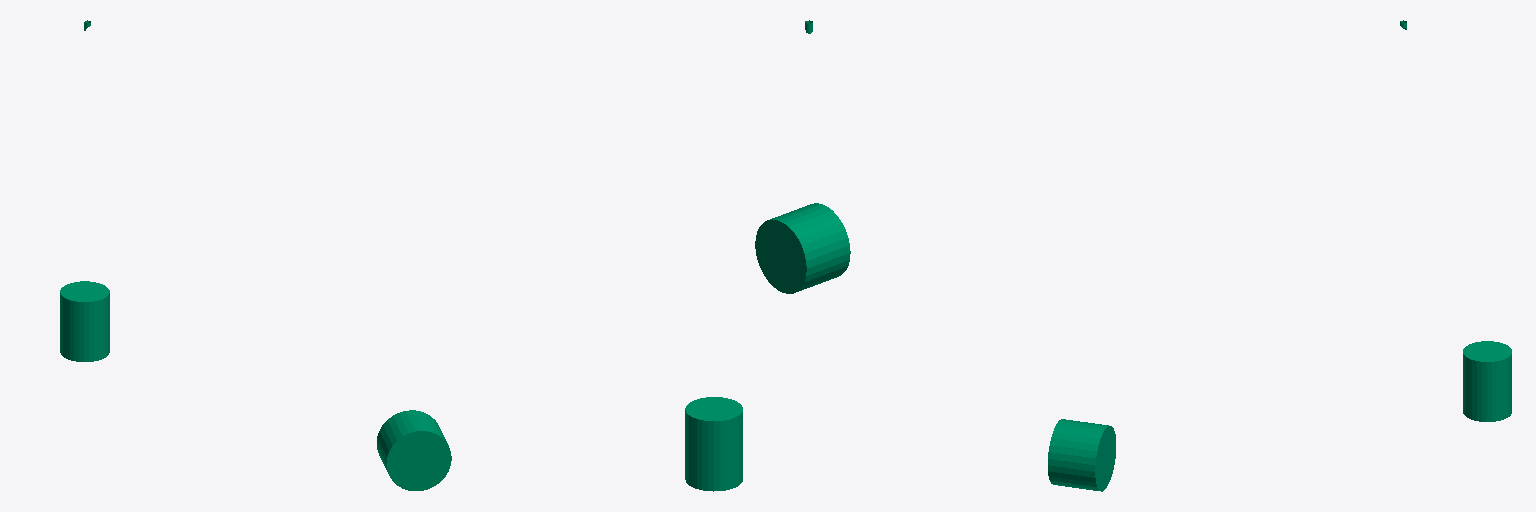
robot.urdf — partnet_5b844d6f4d064a52ce6c3e73b818a2cc:
<?xml version="1.0" ?>
<robot name="partnet_5b844d6f4d064a52ce6c3e73b818a2cc">
	<link name="base"/>
	<link name="link_0">
		<visual name="outside_frame-1">
			<origin xyz="0 0 0"/>
			<geometry>
				<mesh filename="textured_objs/original-1.obj"/>
			</geometry>
		</visual>
		<visual name="outside_frame-1">
			<origin xyz="0 0 0"/>
			<geometry>
				<mesh filename="textured_objs/original-2.obj"/>
			</geometry>
		</visual>
		<collision>
			<origin xyz="0 0 0"/>
			<geometry>
				<mesh filename="textured_objs/original-1.obj"/>
			</geometry>
		</collision>
		<collision>
			<origin xyz="0 0 0"/>
			<geometry>
				<mesh filename="textured_objs/original-2.obj"/>
			</geometry>
		</collision>
	</link>
	<joint name="joint_0" type="fixed">
		<origin rpy="1.570796326794897 0 -1.570796326794897" xyz="0 0 0"/>
		<child link="link_0"/>
		<parent link="base"/>
	</joint>
	<link name="link_1">
		<visual name="glass-34">
			<origin xyz="0.4215270657166128 -0.48329200000000005 -0.008461858680020029"/>
			<geometry>
				<mesh filename="textured_objs/original-12.obj"/>
			</geometry>
		</visual>
		<visual name="fixed_part-31">
			<origin xyz="0.4215270657166128 -0.48329200000000005 -0.008461858680020029"/>
			<geometry>
				<mesh filename="textured_objs/original-10.obj" scale="3 3 3"/>
			</geometry>
		</visual>
		<visual name="fixed_part-30">
			<origin xyz="0.4215270657166128 -0.48329200000000005 -0.008461858680020029"/>
			<geometry>
				<mesh filename="textured_objs/original-11.obj" scale="3 3 3"/>
			</geometry>
		</visual>
		<collision>
			<origin xyz="0.4215270657166128 -0.48329200000000005 -0.008461858680020029"/>
			<geometry>
				<mesh filename="textured_objs/original-12.obj"/>
			</geometry>
		</collision>
		<collision>
			<origin xyz="0.4215270657166128 -0.48329200000000005 -0.008461858680020029"/>
			<geometry>
				<mesh filename="textured_objs/original-10.obj" scale="3 3 3"/>
			</geometry>
		</collision>
		<collision>
			<origin xyz="0.4215270657166128 -0.48329200000000005 -0.008461858680020029"/>
			<geometry>
				<mesh filename="textured_objs/original-11.obj" scale="3 3 3"/>
			</geometry>
		</collision>
	</link>
	<joint name="joint_1" type="revolute">
		<origin xyz="-0.4265270657166128 0.48329200000000005 0.008461858680020029"/>
		<axis xyz="0 -1 0"/>
		<child link="link_1"/>
		<parent link="link_0"/>
		<limit lower="0.0" upper="1.5707963267948966"/>
	</joint>
	<link name="link_2">
		<visual name="glass-33">
			<origin xyz="-0.41540686074842226 -0.4832920000000003 -0.0055998888476049835"/>
			<geometry>
				<mesh filename="textured_objs/original-7.obj"/>
			</geometry>
		</visual>
		<visual name="fixed_part-32">
			<origin xyz="-0.41540686074842226 -0.4832920000000003 -0.0055998888476049835"/>
			<geometry>
				<mesh filename="textured_objs/original-6.obj" scale="3 3 3"/>
			</geometry>
		</visual>
		<visual name="fixed_part-29">
			<origin xyz="-0.41540686074842226 -0.4832920000000003 -0.0055998888476049835"/>
			<geometry>
				<mesh filename="textured_objs/original-5.obj" scale="3 3 3"/>
			</geometry>
		</visual>
		<collision>
			<origin xyz="-0.41540686074842226 -0.4832920000000003 -0.0055998888476049835"/>
			<geometry>
				<mesh filename="textured_objs/original-7.obj"/>
			</geometry>
		</collision>
		<collision>
			<origin xyz="-0.41540686074842226 -0.4832920000000003 -0.0055998888476049835"/>
			<geometry>
				<mesh filename="textured_objs/original-6.obj" scale="3 3 3"/>
			</geometry>
		</collision>
		<collision>
			<origin xyz="-0.41540686074842226 -0.4832920000000003 -0.0055998888476049835"/>
			<geometry>
				<mesh filename="textured_objs/original-5.obj" scale="3 3 3"/>
			</geometry>
		</collision>
	</link>
	<joint name="joint_2" type="revolute">
		<origin xyz="0.42040686074842226 0.4832920000000003 0.0055998888476049835"/>
		<axis xyz="0 1 0"/>
		<child link="link_2"/>
		<parent link="link_0"/>
		<limit lower="-0.0" upper="1.5707963267948966"/>
	</joint>
</robot>

--- What the picture shows (computed from the rendered views, not written in the file) ---
Views: 3 orthographic renders of the robot side by side, from view 1: azimuth 30°, elevation 25°; view 2: azimuth 150°, elevation 25°; view 3: azimuth 270°, elevation 25°.
Model partnet_5b844d6f4d064a52ce6c3e73b818a2cc with 4 links and 3 joints (2 revolute, 1 fixed), rooted at base, posed all joints at 0.
Visible links, largest first — view 1: link_1; view 2: link_1; view 3: link_1.
Boxes of the visible links, x1=… form: link_1: x1=60, y1=20, x2=451, y2=490; link_1: x1=685, y1=20, x2=850, y2=491; link_1: x1=1048, y1=20, x2=1511, y2=491.
Size in the robot's own frame: 0.9365 by 1.85 by 1.68 metres.
Meshes: 8 distinct files referenced, 3 mesh visuals loaded (3 OBJ); not drawn: 5 (reference not matched to a file when rendering).